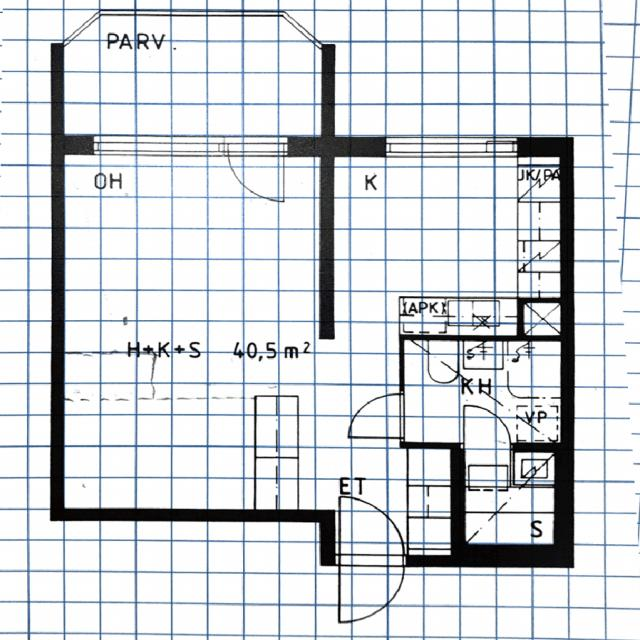door: (339, 554, 404, 624), (339, 496, 404, 566), (228, 136, 284, 206), (350, 394, 404, 438), (466, 402, 510, 452)
